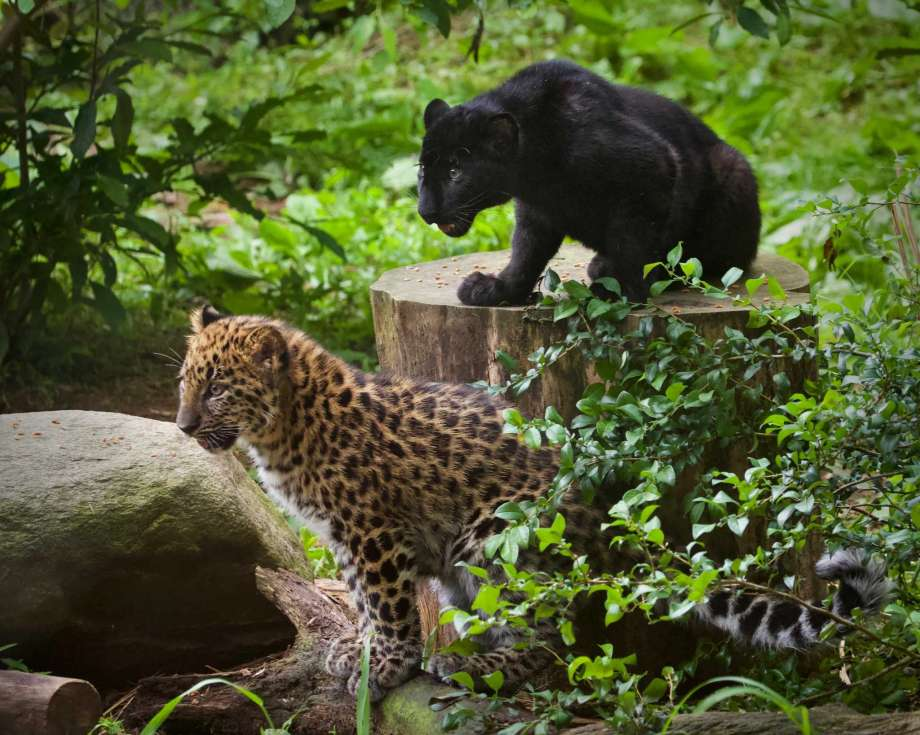amur_leopard: (151, 297, 354, 473)
